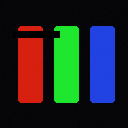3 line_h: (13, 31, 59, 37)
